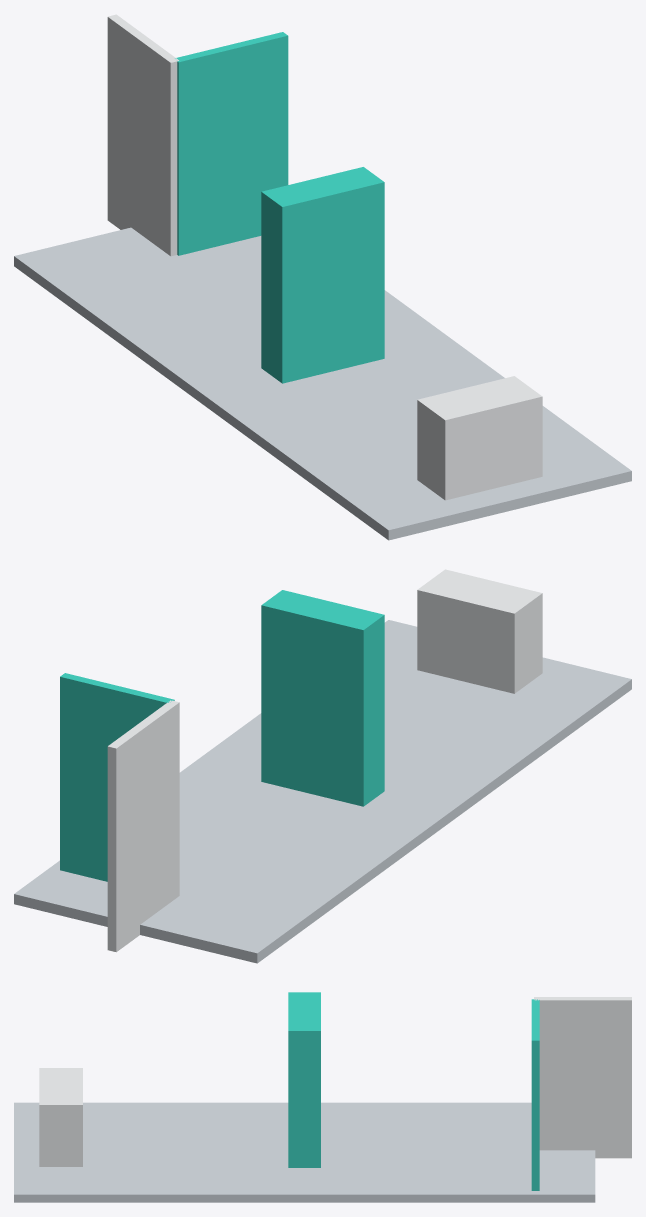
3 renders of one model, top to bottom at view 1: azimuth 30°, elevation 25°; view 2: azimuth 150°, elevation 25°; view 3: azimuth 270°, elevation 25°, orthographic. The views are drawn at different scales.
Visible parts, largest first — view 1: Exhibition Booth Concept; view 2: Exhibition Booth Concept; view 3: Exhibition Booth Concept.
Part boxes in pixels (x1,y1,x2,y2): Exhibition Booth Concept: (14, 14, 631, 540); Exhibition Booth Concept: (14, 569, 631, 963); Exhibition Booth Concept: (14, 992, 631, 1202).
Bounding box in the file's own units: 3 × 2.4 × 8.51.
